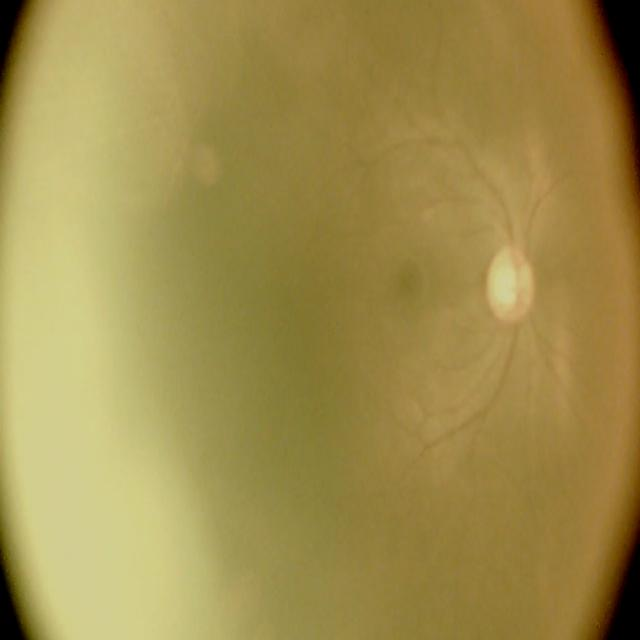optic-nerve: (465, 201, 560, 387)
